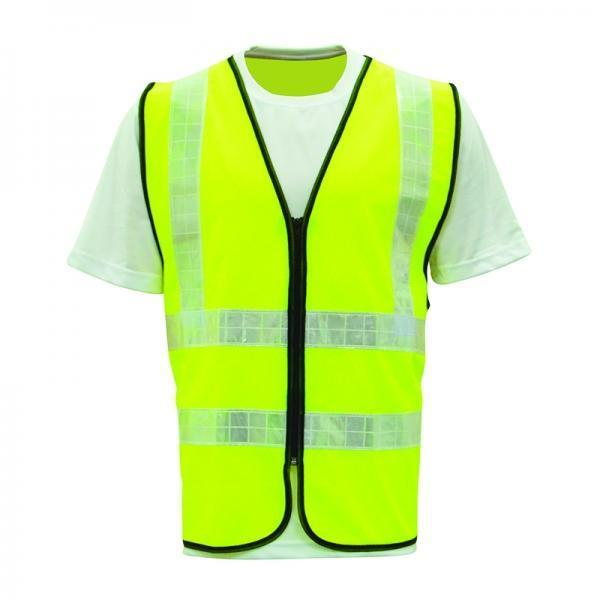vest: (140, 49, 463, 557)
